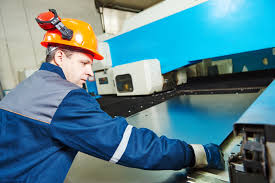Person_wearing_helmet: (35, 7, 102, 60)
